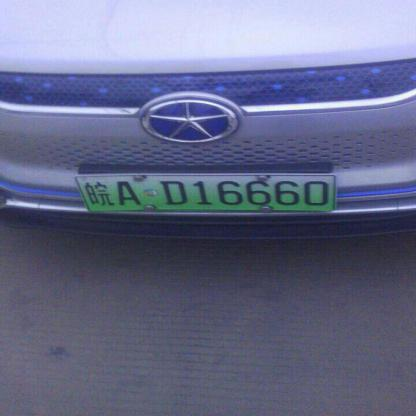lp: (75, 174, 335, 212)
